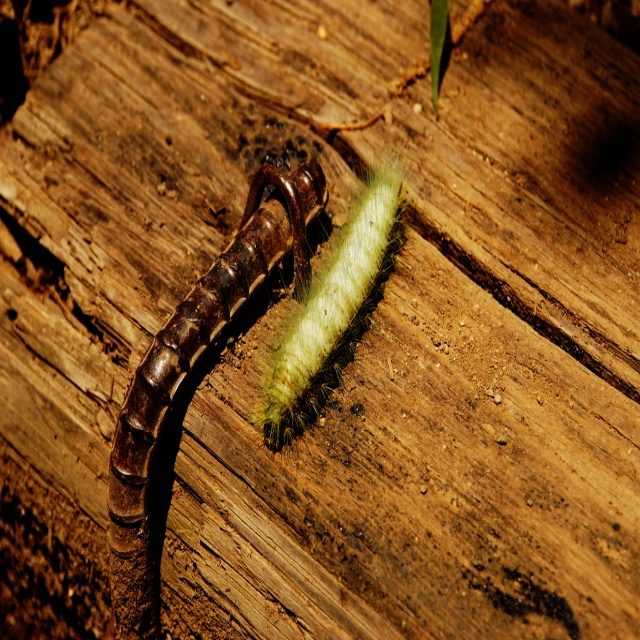Caterpillar: (239, 149, 416, 482)
